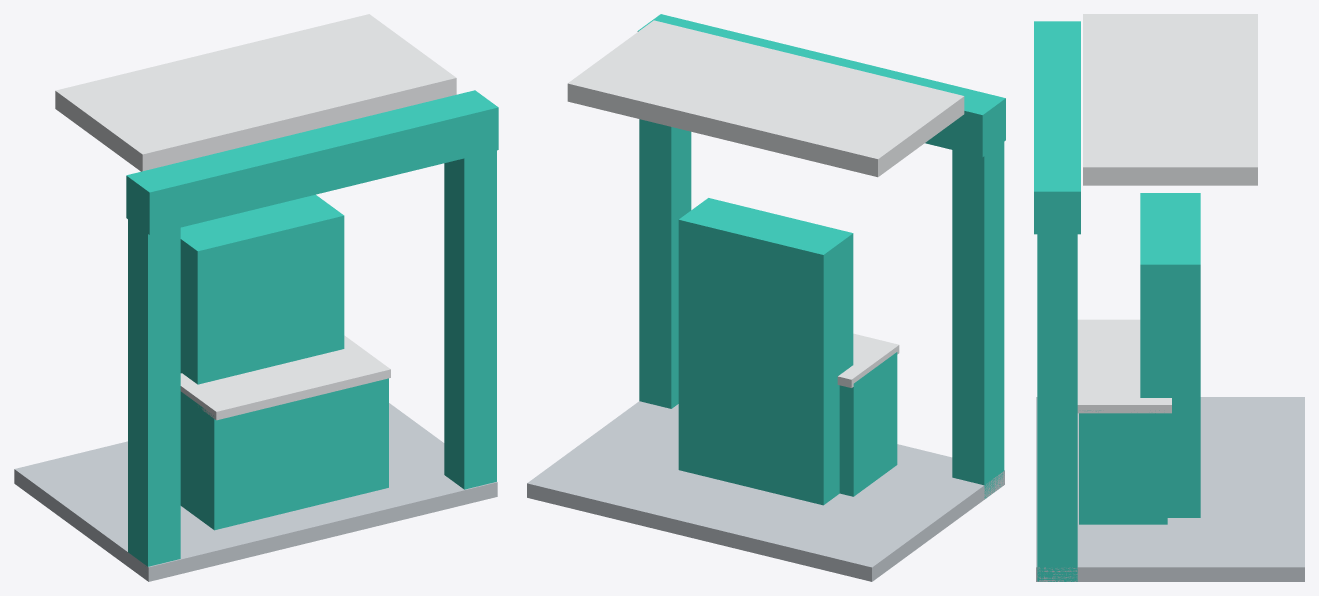
3 views of the same model, side by side, from view 1: azimuth 30°, elevation 25°; view 2: azimuth 150°, elevation 25°; view 3: azimuth 270°, elevation 25° (orthographic).
Parts seen in each view (by area): view 1: Exhibition Booth Concept; view 2: Exhibition Booth Concept; view 3: Exhibition Booth Concept.
Boxes of the visible parts, box(x1,y1,x2,y2) form: Exhibition Booth Concept: box(14, 14, 498, 581); Exhibition Booth Concept: box(527, 14, 1005, 581); Exhibition Booth Concept: box(1034, 14, 1304, 581).
Size of the model in its own units: 3 by 3.34 by 2.01.
